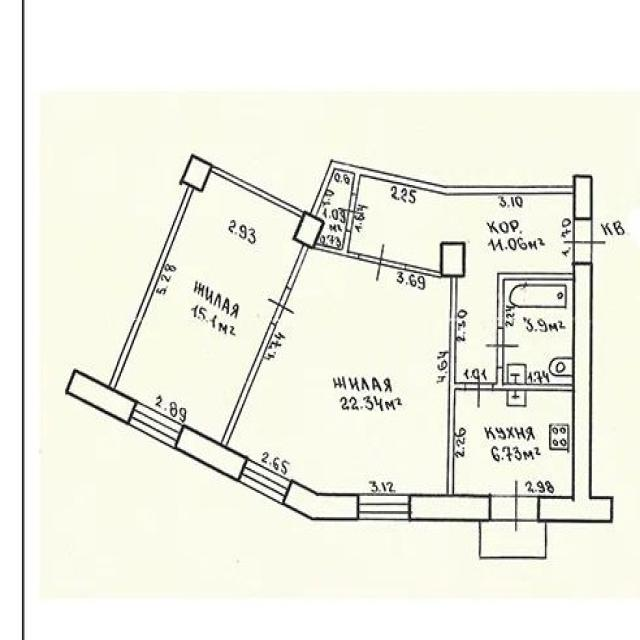Bathrooms: (505, 281, 573, 383)
Corridors: (349, 178, 573, 379), (318, 172, 353, 248), (481, 523, 546, 556)
Doors: (490, 478, 537, 533), (357, 242, 407, 281), (564, 220, 607, 262), (484, 327, 520, 367), (267, 285, 295, 327), (466, 371, 494, 411), (340, 193, 364, 232)
LBwalls: (536, 263, 614, 524), (174, 423, 250, 482), (65, 368, 139, 424), (283, 479, 360, 522), (409, 494, 491, 520), (181, 155, 212, 192), (294, 211, 324, 248), (573, 175, 593, 219), (442, 243, 465, 276)
Offices: (228, 248, 449, 493), (117, 173, 302, 441), (455, 393, 572, 495)
Walls: (108, 186, 195, 387), (310, 159, 573, 216), (222, 323, 276, 445), (210, 165, 304, 217), (496, 271, 572, 326), (447, 277, 466, 493), (493, 368, 572, 391), (313, 231, 359, 259), (285, 245, 309, 289), (405, 264, 441, 277)
Windows: (126, 402, 183, 448), (239, 460, 292, 505), (359, 493, 409, 520)
